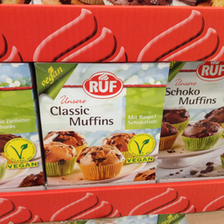cake: (35, 61, 169, 186), (166, 58, 224, 180)
